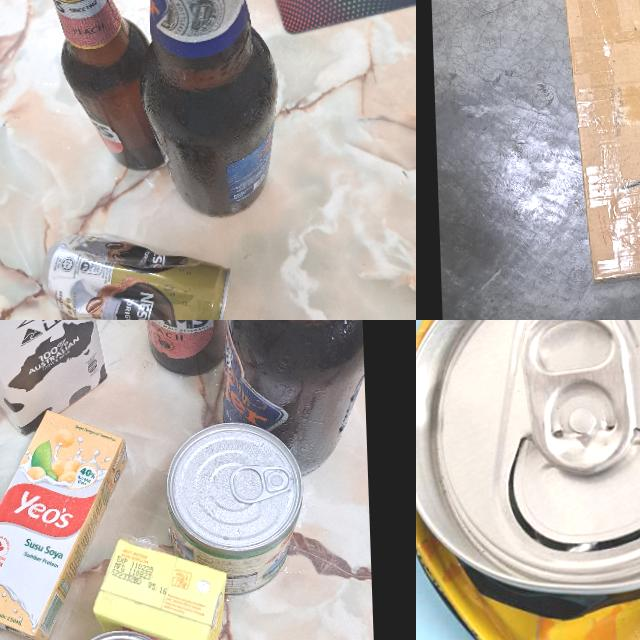aba de lata: (523, 320, 638, 480), (228, 464, 293, 504)
caixinha: (0, 406, 133, 640), (90, 534, 229, 640)
garrafa de vidro: (132, 0, 284, 219), (214, 320, 367, 479), (32, 0, 164, 172), (131, 320, 238, 378)
lata: (416, 320, 640, 640), (163, 420, 304, 599), (47, 231, 233, 320)
papelão: (555, 0, 640, 286)
